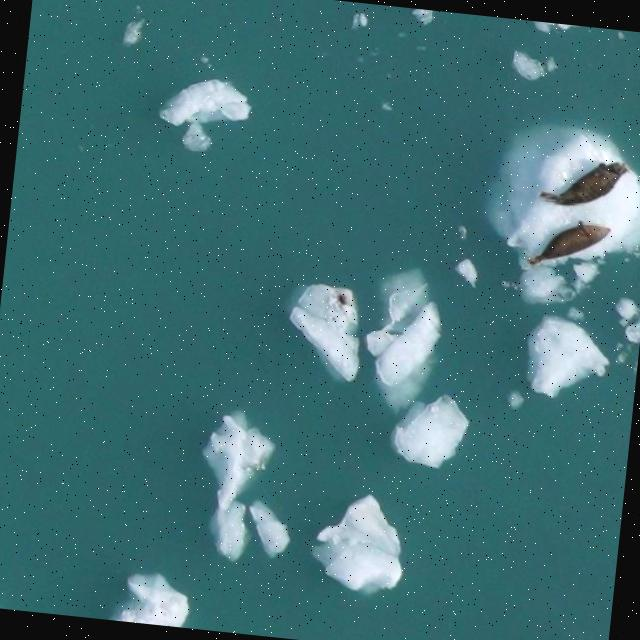seal: (540, 162, 626, 206), (527, 222, 612, 266)
